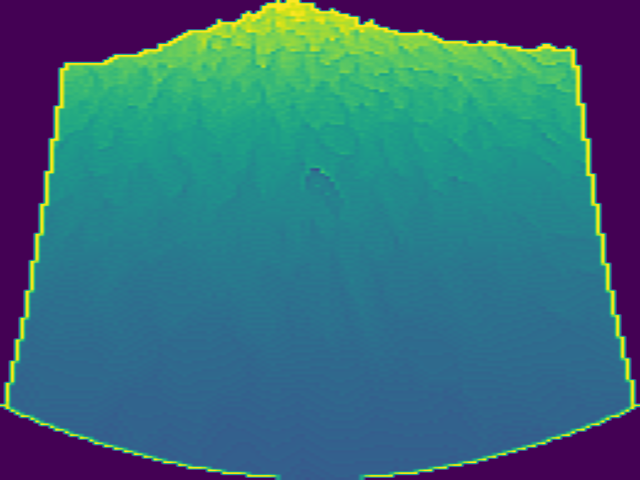car_0198: (299, 166, 343, 212)
